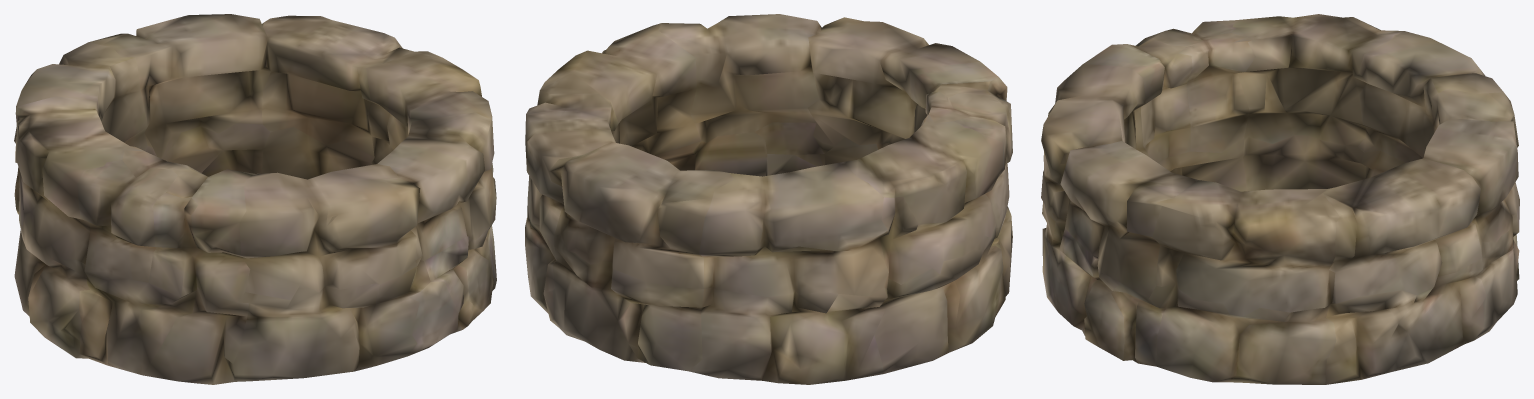
File: stone-well-tripo.glb
3 renders of one model, left to right at view 1: azimuth 30°, elevation 25°; view 2: azimuth 150°, elevation 25°; view 3: azimuth 270°, elevation 25°, orthographic. The views are drawn at different scales.
Parts seen in each view (by area): view 1: tripo_node_1bcc186d-a020-4e68-9ba5-ea840d45af94; view 2: tripo_node_1bcc186d-a020-4e68-9ba5-ea840d45af94; view 3: tripo_node_1bcc186d-a020-4e68-9ba5-ea840d45af94.
Boxes of the visible parts, left/top/right/bottom form: tripo_node_1bcc186d-a020-4e68-9ba5-ea840d45af94: left=14, top=14, right=496, bottom=384; tripo_node_1bcc186d-a020-4e68-9ba5-ea840d45af94: left=525, top=14, right=1012, bottom=384; tripo_node_1bcc186d-a020-4e68-9ba5-ea840d45af94: left=1041, top=14, right=1519, bottom=384.
Size of the model in its own units: 0.9954 by 0.4531 by 0.9937.
Materials: 1 (1 with a texture image).
